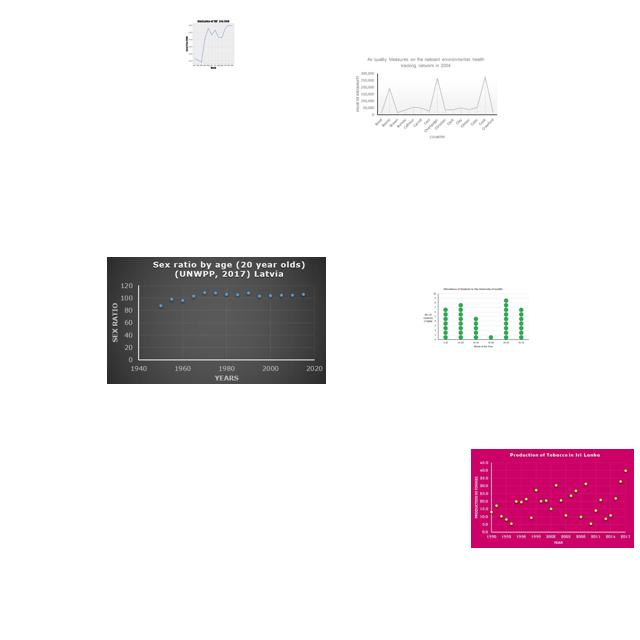Graph: (107, 257, 326, 384), (471, 449, 634, 548), (351, 54, 499, 140), (421, 286, 531, 350), (177, 17, 248, 70)
